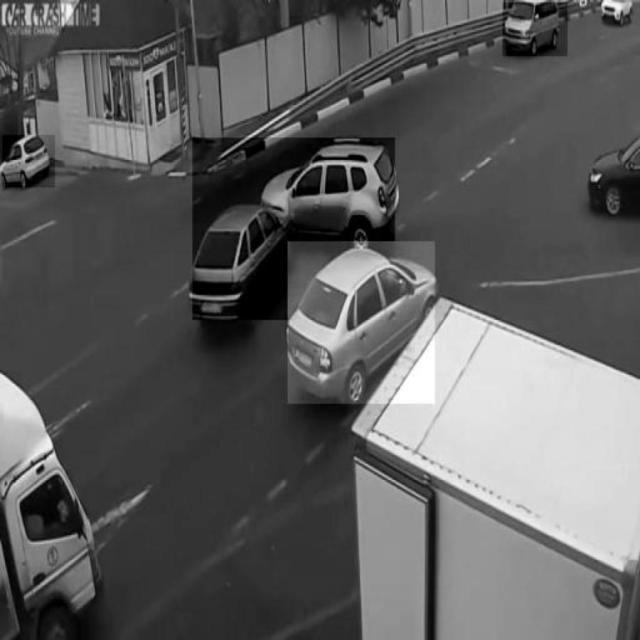accident: (192, 138, 396, 320)
vehicle: (288, 242, 435, 404), (503, 2, 567, 56), (3, 136, 55, 188)
